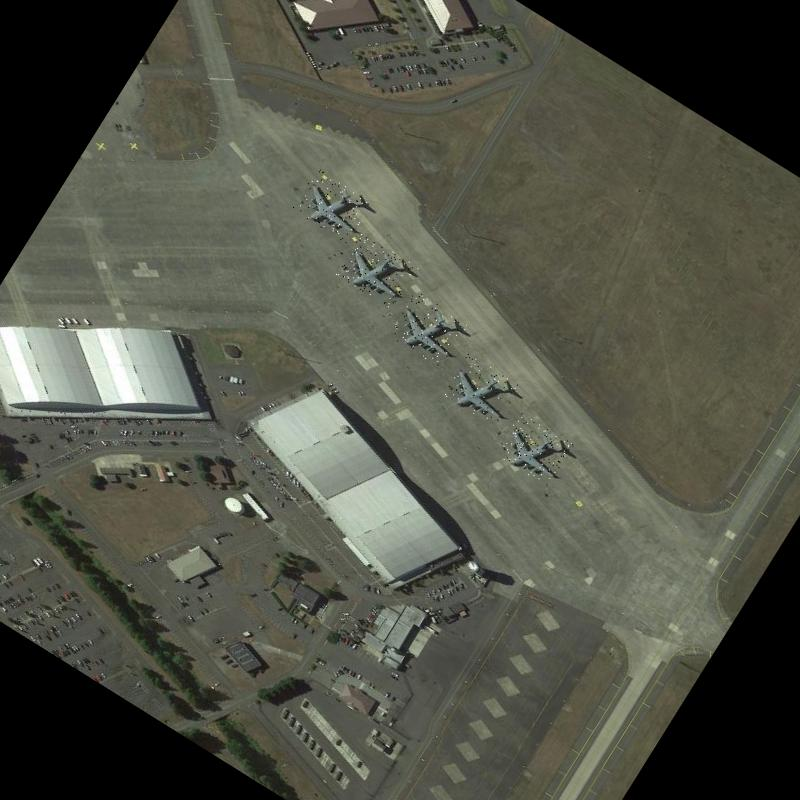A3: (336, 232, 418, 310), (388, 290, 470, 368), (440, 352, 522, 428), (292, 168, 372, 244), (494, 412, 574, 487)
